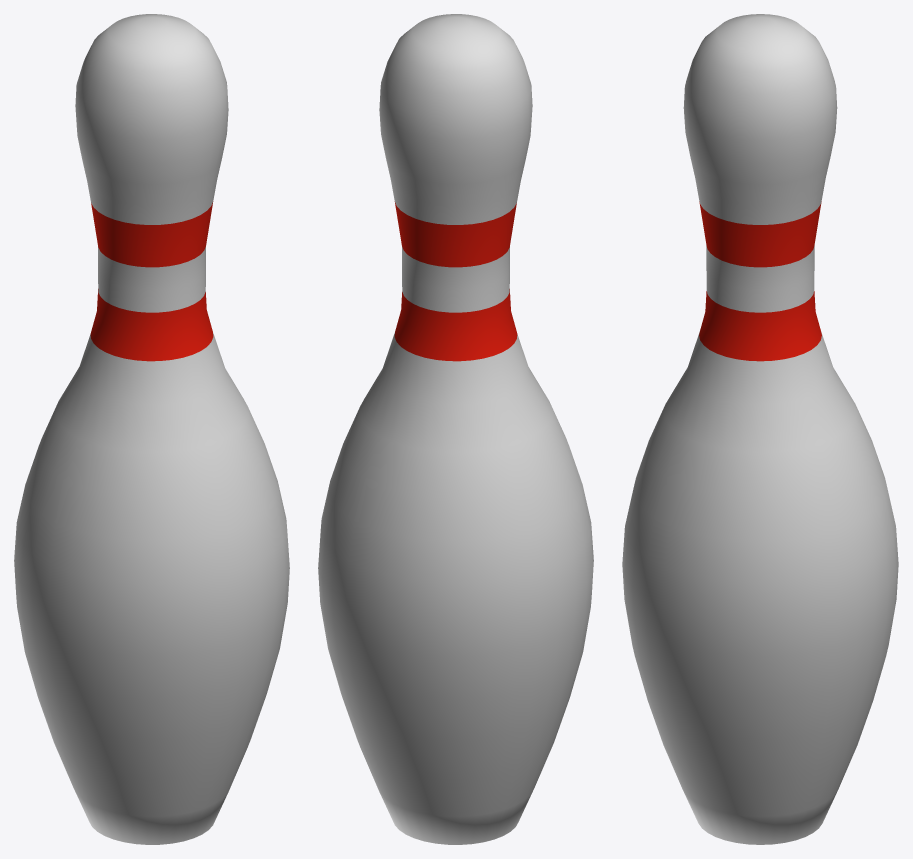
The model's file is Pin.glb.
3 renders of one model, left to right at view 1: azimuth 30°, elevation 25°; view 2: azimuth 150°, elevation 25°; view 3: azimuth 270°, elevation 25°, orthographic.
Parts seen in each view (by area): view 1: Circle; view 2: Circle; view 3: Circle.
Boxes of the visible parts, x1,y1,x2,y2 form: Circle: [14, 14, 289, 844]; Circle: [318, 14, 593, 844]; Circle: [622, 14, 898, 844].
Bounding box in the file's own units: 0.7986 × 2.53 × 0.7986.
